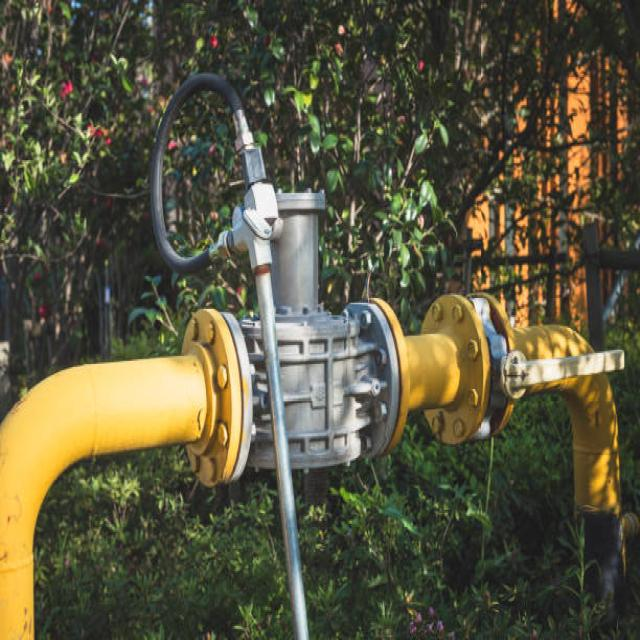compressor: (0, 69, 640, 640)
corrosion detected: (179, 304, 255, 491), (415, 290, 494, 449)
